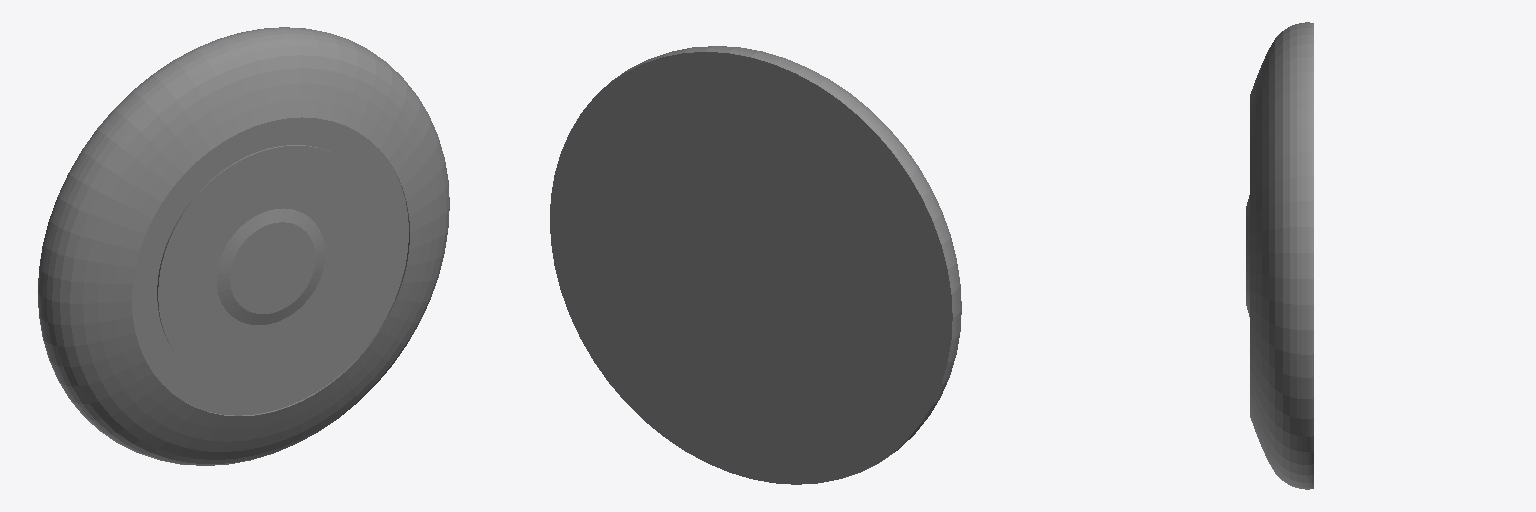
File: frisbee.obj
3 views of the same model, side by side, from view 1: azimuth 30°, elevation 25°; view 2: azimuth 150°, elevation 25°; view 3: azimuth 270°, elevation 25° (orthographic).
Size of the model in its own units: 23.2 by 23.19 by 3.33.